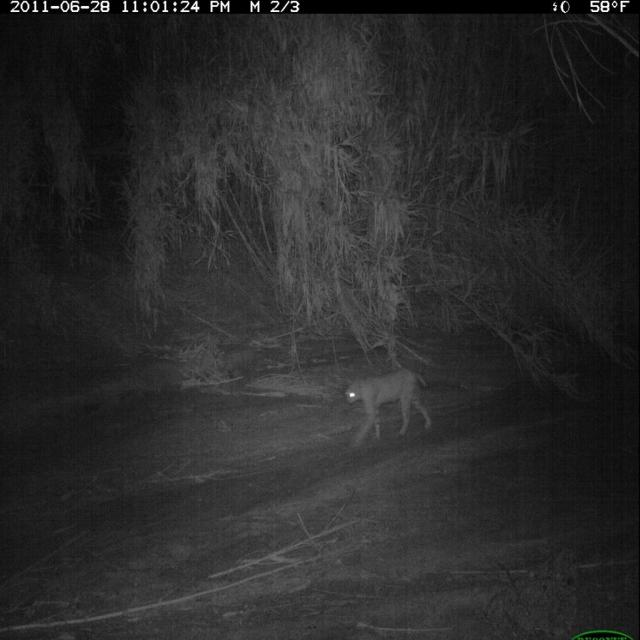bobcat: (342, 366, 436, 451)
